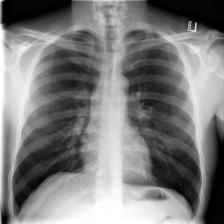normal: (8, 23, 204, 224)
